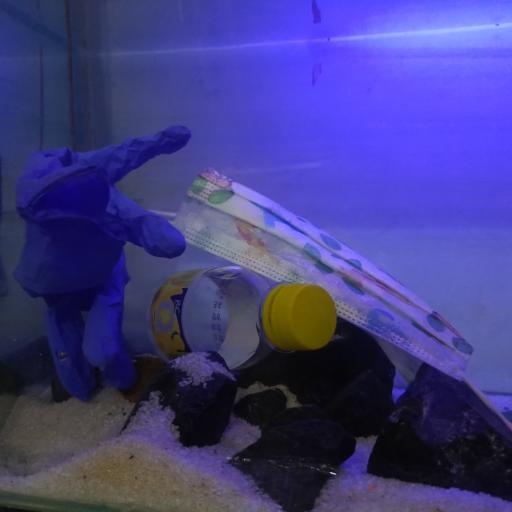bottle_cap: (273, 284, 337, 352)
glove: (12, 125, 191, 400)
mask: (155, 168, 474, 388)
plastic_bottle: (129, 266, 337, 372)
